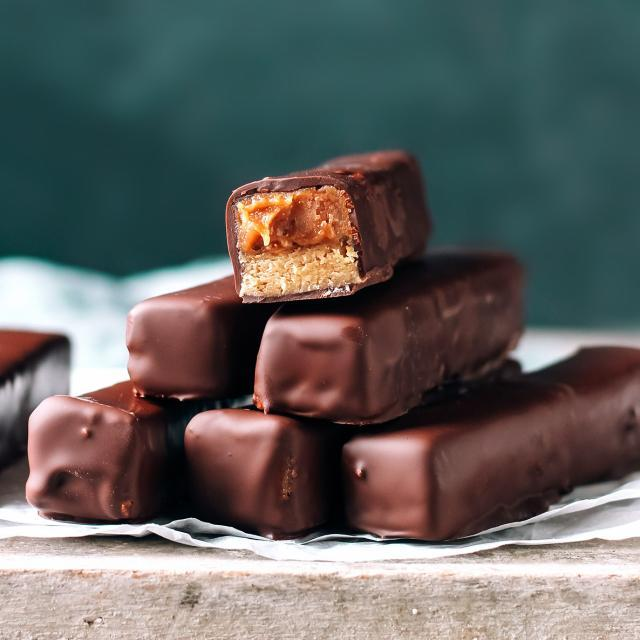Chocolate bar packaged: (339, 341, 639, 539), (248, 252, 527, 428), (220, 150, 440, 310), (124, 259, 294, 406)
